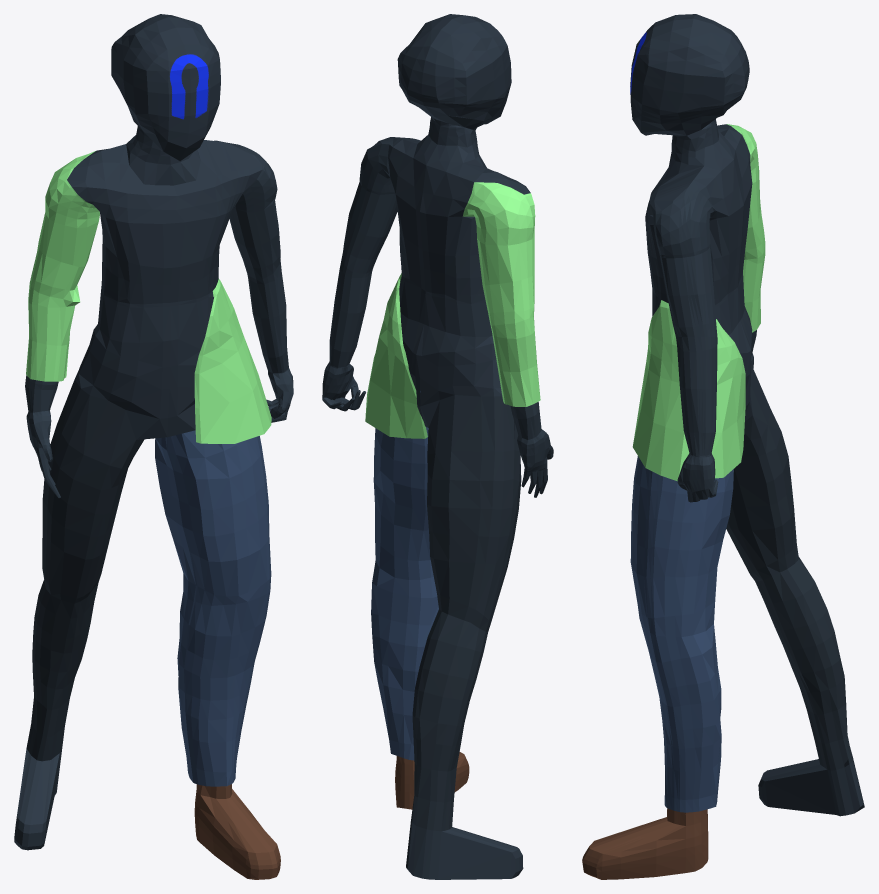
The model's file is Mar_Recover_000014.obj.
3 renders of one model, left to right at view 1: azimuth 30°, elevation 25°; view 2: azimuth 150°, elevation 25°; view 3: azimuth 270°, elevation 25°, orthographic. The views are drawn at different scales.
Parts seen in each view (by area): view 1: Cube.000_Cube.001; view 2: Cube.000_Cube.001; view 3: Cube.000_Cube.001.
Part boxes in pixels (x1=…): Cube.000_Cube.001: x1=14, y1=14, x2=293, y2=879; Cube.000_Cube.001: x1=322, y1=14, x2=553, y2=879; Cube.000_Cube.001: x1=582, y1=14, x2=864, y2=879.
Size of the model in its own units: 1.2 by 3.94 by 1.22.
